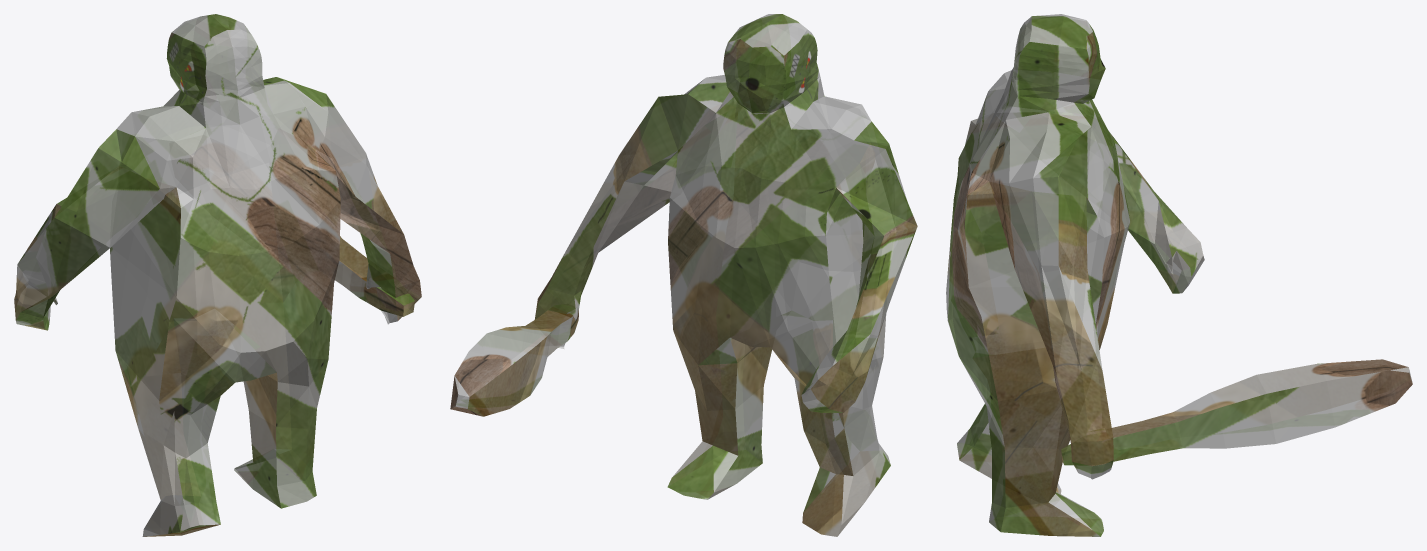
Rendered from Enemigo226.obj.
3 renders of one model, left to right at view 1: azimuth 30°, elevation 25°; view 2: azimuth 150°, elevation 25°; view 3: azimuth 270°, elevation 25°, orthographic.
Visible parts, largest first — view 1: Cube; view 2: Cube; view 3: Cube.
Part boxes in pixels (x1=…): Cube: x1=14, y1=14, x2=421, y2=536; Cube: x1=450, y1=14, x2=917, y2=536; Cube: x1=946, y1=14, x2=1412, y2=536.
Size of the model in its own units: 2.17 by 2.83 by 2.35.
